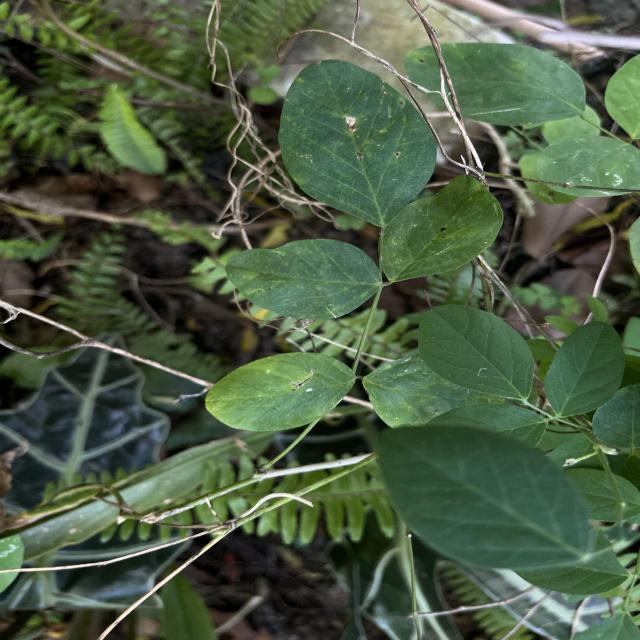Clitoria ternatea: (277, 58, 439, 229), (378, 172, 504, 284), (224, 238, 384, 320), (204, 350, 358, 432), (416, 304, 536, 401), (542, 320, 626, 418)
